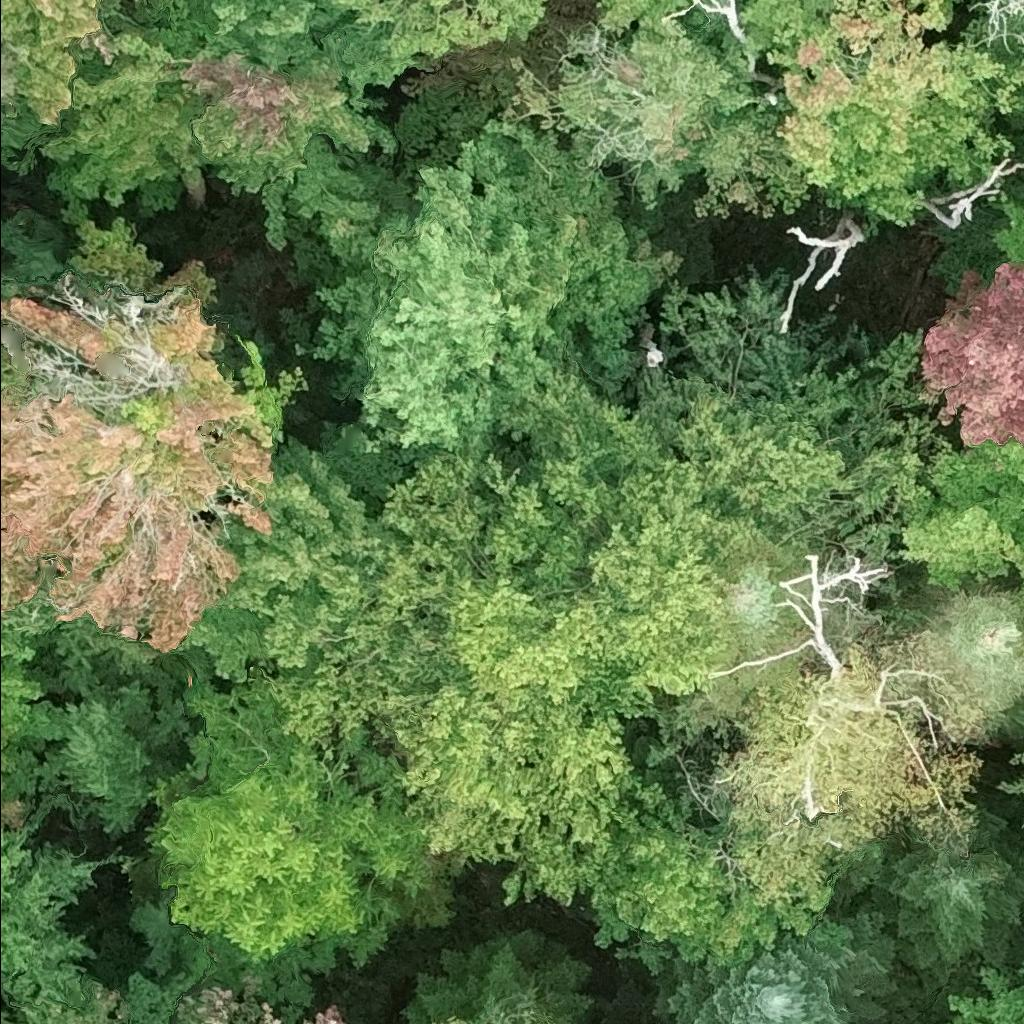crown: (239, 451, 784, 903), (266, 85, 680, 456), (0, 211, 302, 653), (481, 373, 927, 608), (714, 627, 1009, 897), (147, 692, 431, 971), (42, 0, 407, 207), (501, 0, 840, 217), (768, 0, 1023, 229), (176, 435, 410, 684), (584, 808, 841, 971), (656, 911, 893, 1023), (37, 659, 186, 832), (887, 840, 1023, 985), (917, 261, 1023, 445), (701, 543, 813, 714), (0, 815, 97, 1004), (902, 438, 1023, 587), (336, 0, 547, 80), (0, 971, 274, 1023), (0, 0, 112, 121), (935, 590, 1023, 711), (0, 628, 49, 826), (782, 219, 863, 332), (921, 159, 1023, 227), (963, 0, 1023, 72), (991, 193, 1023, 267), (0, 37, 22, 107), (297, 1005, 344, 1023), (446, 1018, 473, 1023), (1021, 99, 1023, 112)
